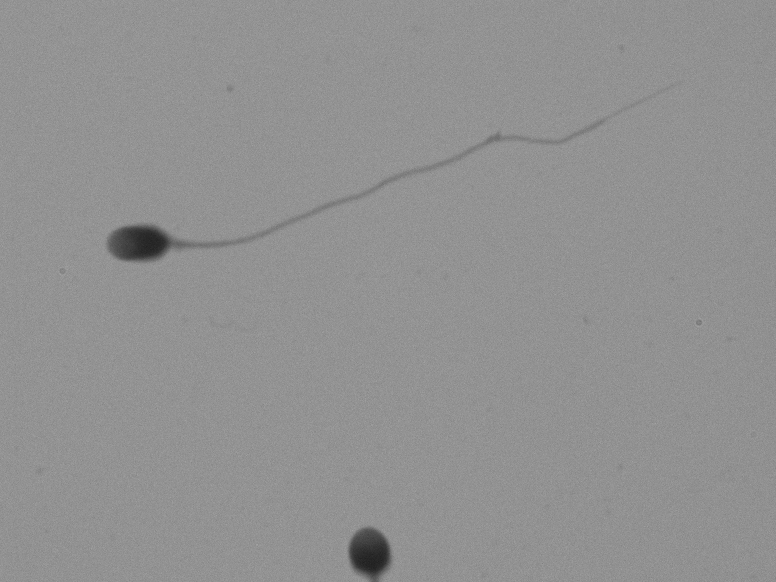Normal: (56, 73, 708, 275)
